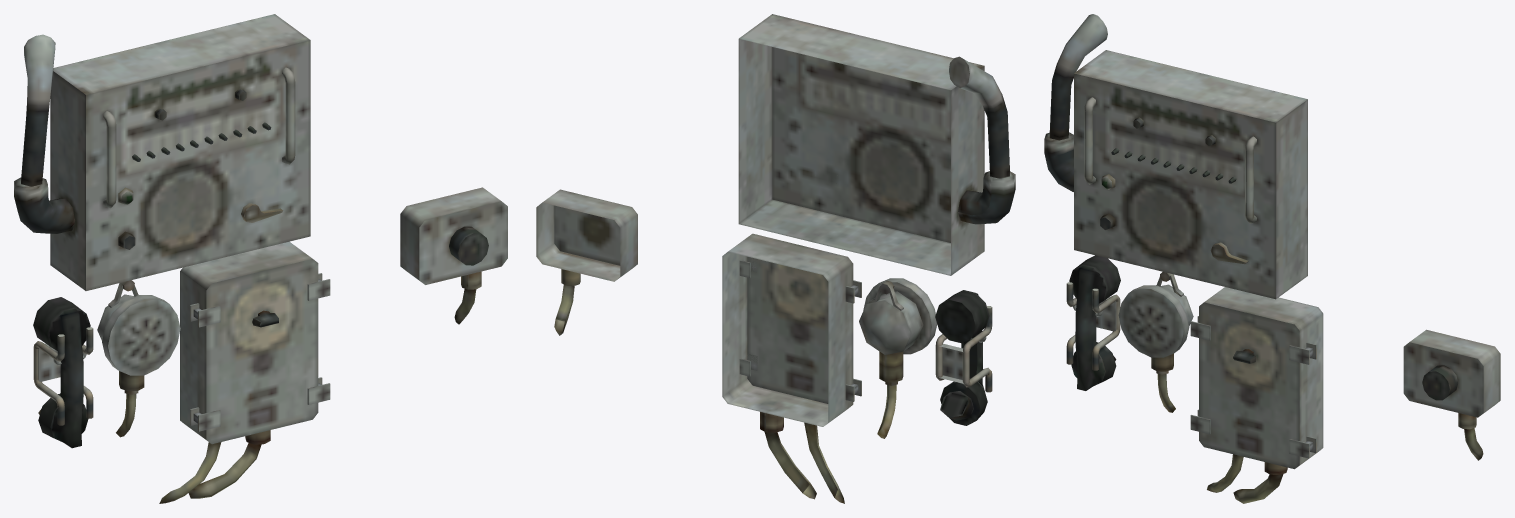
File: sm22_016_switchboard06a.fbx
The picture shows the model from 3 angles, left to right: view 1: azimuth 30°, elevation 25°; view 2: azimuth 150°, elevation 25°; view 3: azimuth 330°, elevation 25°; orthographic projection. The views are drawn at different scales.
Parts seen in each view (by area): view 1: LOD_1_Group_5_Sub_1__sm22_016_Switchboard06A_A_Mat, LOD_1_Group_6_Sub_1__sm22_016_Switchboard06A_A_Mat, LOD_1_Group_0_Sub_1__sm22_016_Switchboard06A_A_Mat, LOD_1_Group_2_Sub_1__sm22_016_Switchboard06A_A_Mat, LOD_1_Group_4_Sub_1__sm22_016_Switchboard06A_A_Mat, LOD_1_Group_3_Sub_1__sm22_016_Switchboard06A_A_Mat; view 2: LOD_1_Group_5_Sub_1__sm22_016_Switchboard06A_A_Mat, LOD_1_Group_0_Sub_1__sm22_016_Switchboard06A_A_Mat, LOD_1_Group_4_Sub_1__sm22_016_Switchboard06A_A_Mat, LOD_1_Group_2_Sub_1__sm22_016_Switchboard06A_A_Mat, LOD_1_Group_6_Sub_1__sm22_016_Switchboard06A_A_Mat, LOD_1_Group_3_Sub_1__sm22_016_Switchboard06A_A_Mat; view 3: LOD_1_Group_5_Sub_1__sm22_016_Switchboard06A_A_Mat, LOD_1_Group_6_Sub_1__sm22_016_Switchboard06A_A_Mat, LOD_1_Group_0_Sub_1__sm22_016_Switchboard06A_A_Mat, LOD_1_Group_2_Sub_1__sm22_016_Switchboard06A_A_Mat, LOD_1_Group_4_Sub_1__sm22_016_Switchboard06A_A_Mat, LOD_1_Group_3_Sub_1__sm22_016_Switchboard06A_A_Mat.
Boxes of the visible parts, x1,y1,x2,y2 form: LOD_1_Group_5_Sub_1__sm22_016_Switchboard06A_A_Mat: (38,14,507,444); LOD_1_Group_6_Sub_1__sm22_016_Switchboard06A_A_Mat: (33,67,488,425); LOD_1_Group_0_Sub_1__sm22_016_Switchboard06A_A_Mat: (14,34,74,233); LOD_1_Group_2_Sub_1__sm22_016_Switchboard06A_A_Mat: (33,297,90,448); LOD_1_Group_4_Sub_1__sm22_016_Switchboard06A_A_Mat: (116,271,481,503); LOD_1_Group_3_Sub_1__sm22_016_Switchboard06A_A_Mat: (190,273,330,431); LOD_1_Group_5_Sub_1__sm22_016_Switchboard06A_A_Mat: (536,14,984,426); LOD_1_Group_0_Sub_1__sm22_016_Switchboard06A_A_Mat: (949,56,1015,224); LOD_1_Group_4_Sub_1__sm22_016_Switchboard06A_A_Mat: (554,269,903,503); LOD_1_Group_2_Sub_1__sm22_016_Switchboard06A_A_Mat: (935,290,989,425); LOD_1_Group_6_Sub_1__sm22_016_Switchboard06A_A_Mat: (935,306,992,392); LOD_1_Group_3_Sub_1__sm22_016_Switchboard06A_A_Mat: (739,256,861,401); LOD_1_Group_5_Sub_1__sm22_016_Switchboard06A_A_Mat: (1074,50,1500,469); LOD_1_Group_6_Sub_1__sm22_016_Switchboard06A_A_Mat: (1066,97,1458,400); LOD_1_Group_0_Sub_1__sm22_016_Switchboard06A_A_Mat: (1044,14,1107,191); LOD_1_Group_2_Sub_1__sm22_016_Switchboard06A_A_Mat: (1069,255,1120,390); LOD_1_Group_4_Sub_1__sm22_016_Switchboard06A_A_Mat: (1151,353,1483,503); LOD_1_Group_3_Sub_1__sm22_016_Switchboard06A_A_Mat: (1190,316,1316,458).
Bounding box in the file's own units: 1.25 × 1.23 × 0.2076.
